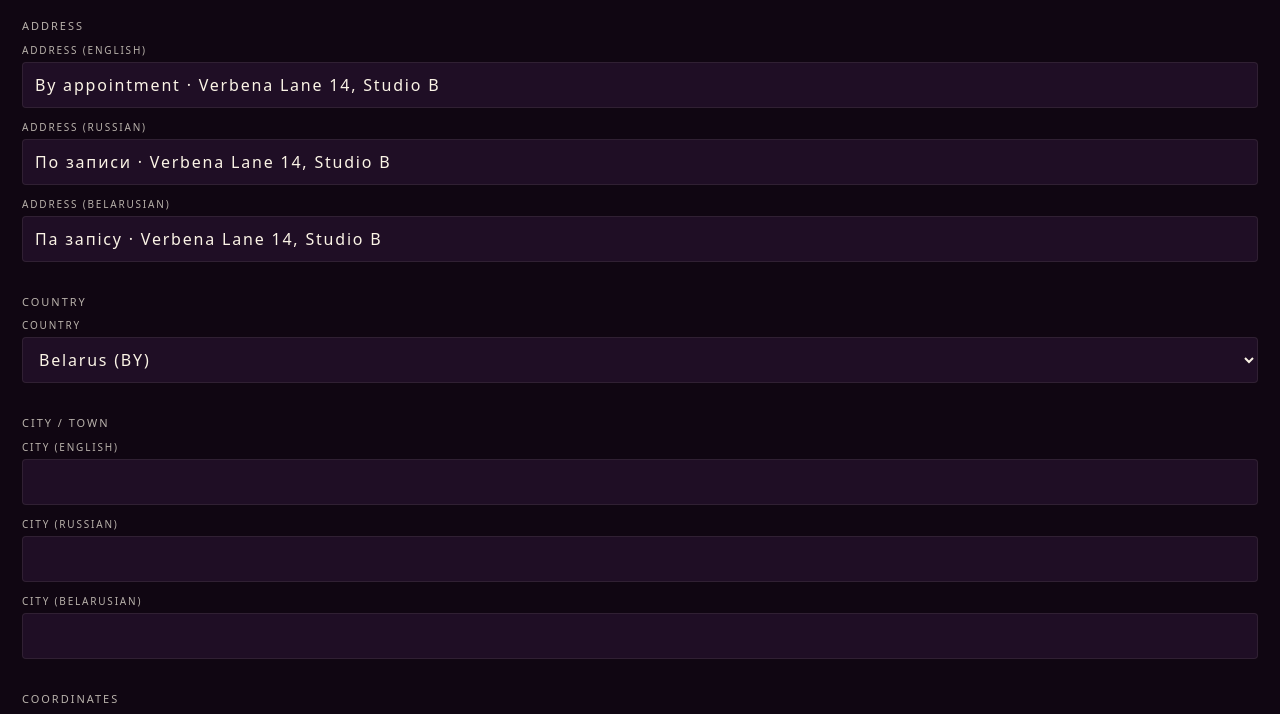
StudioForm › submits the patch shape and shows 'Saved' on success
Type "Borisov" into the field labelled "City (English)" at (640, 482), box top-left (22, 458), bottom-right (1258, 504)
(page scrolled)
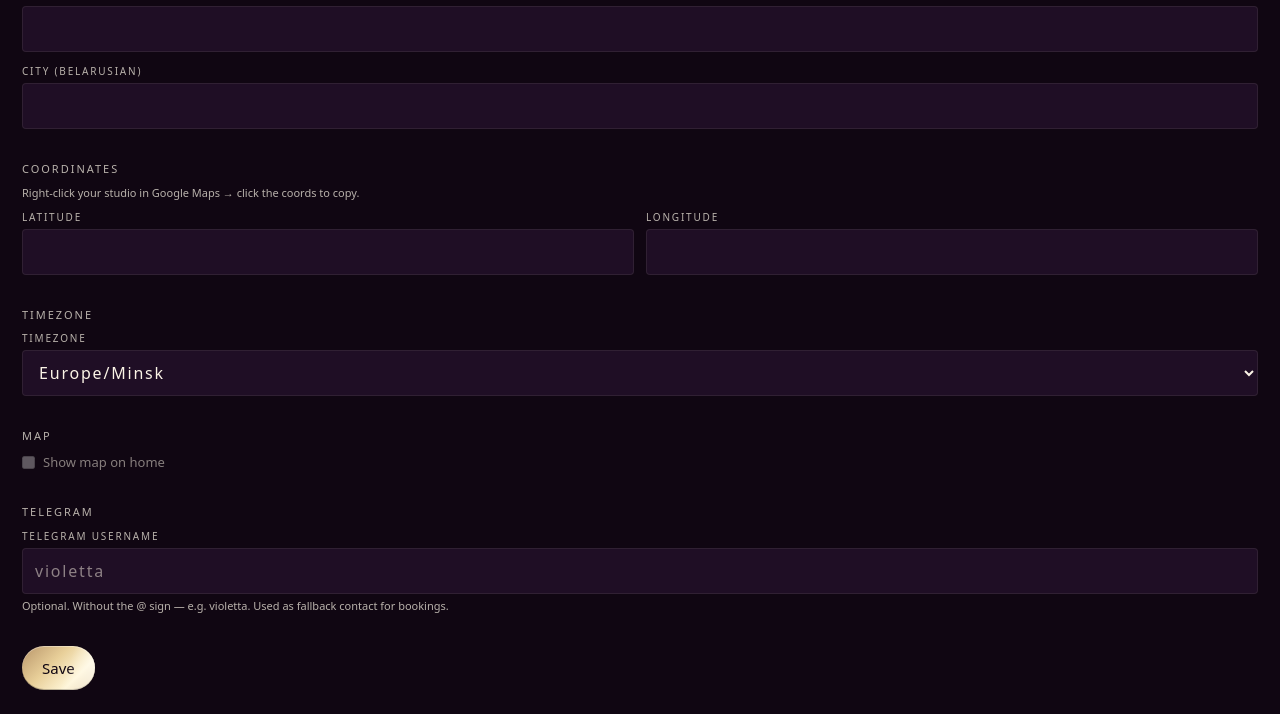
Click the button "Save" at (58, 668), box top-left (22, 646), bottom-right (95, 690)
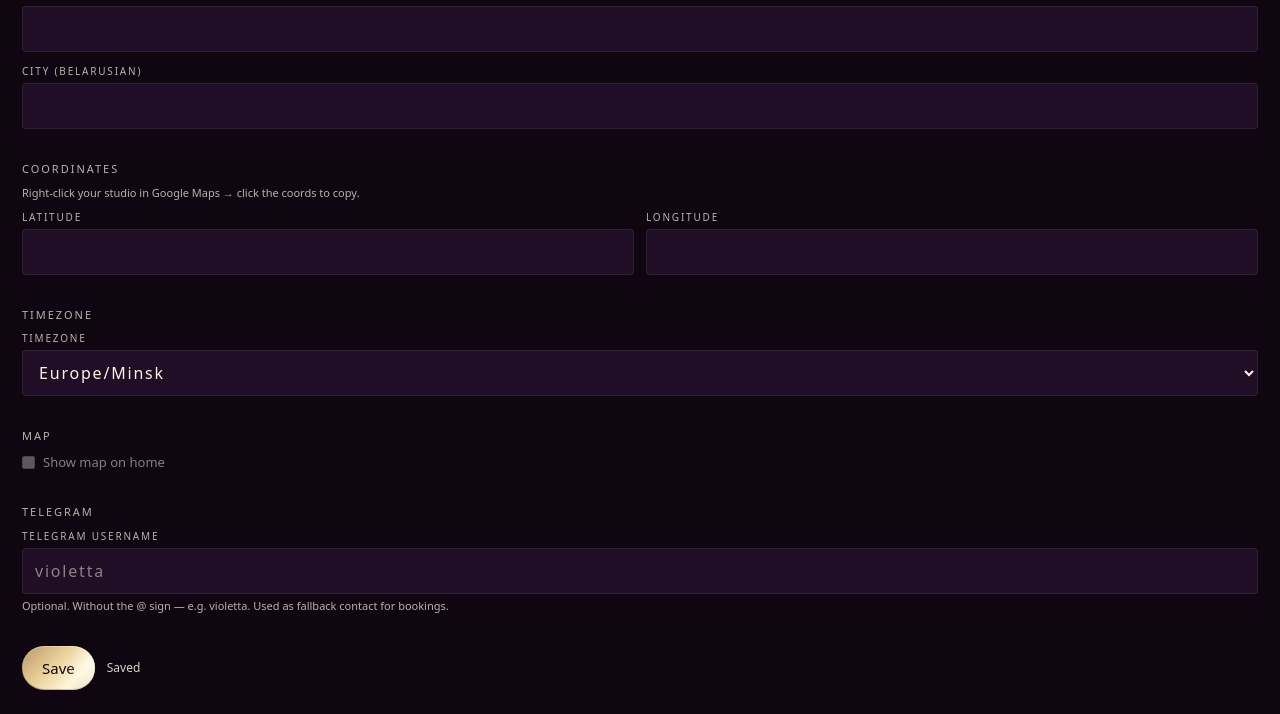
Expected: the text "Saved" is shown, top-left (107, 659), bottom-right (140, 677)
